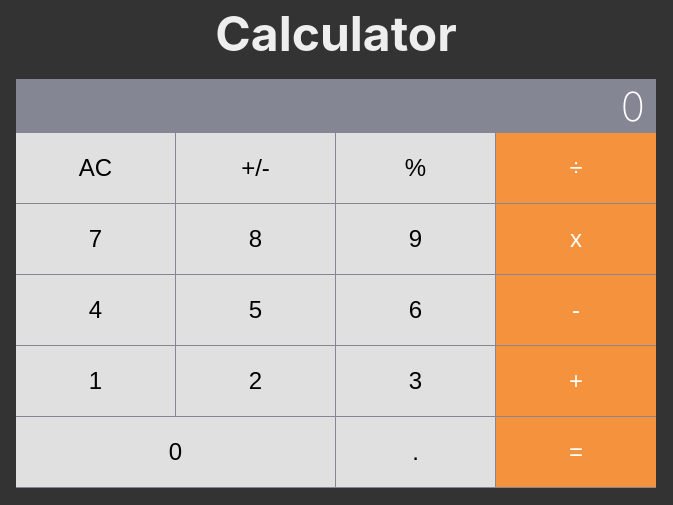
Test: tests calculation › test inverse
The width and height of the screenshot is (673, 505).
Click the button "1": (96, 381) top-left (16, 346), bottom-right (175, 416)
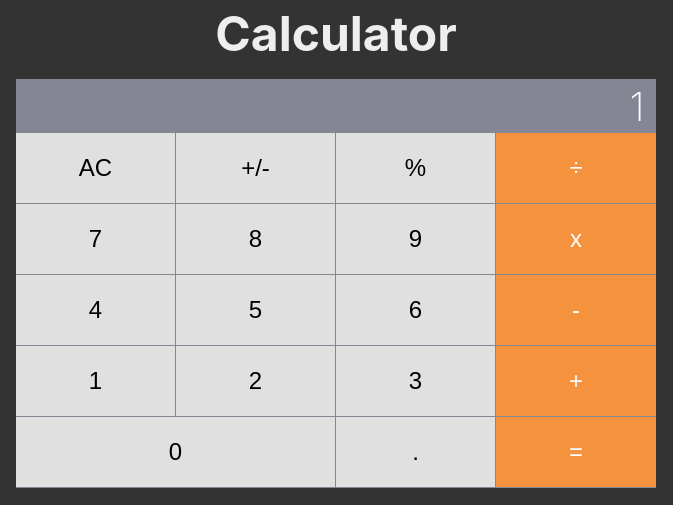
Click the button "0": (176, 452) top-left (16, 417), bottom-right (335, 487)
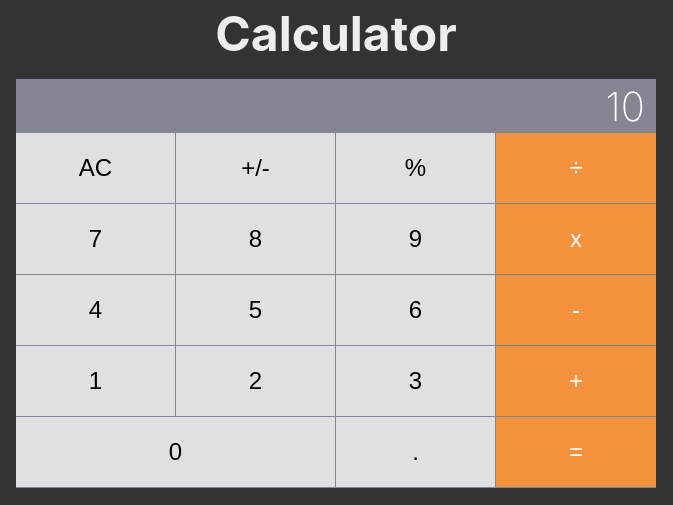
Click the button "8": (256, 239) top-left (176, 204), bottom-right (335, 274)
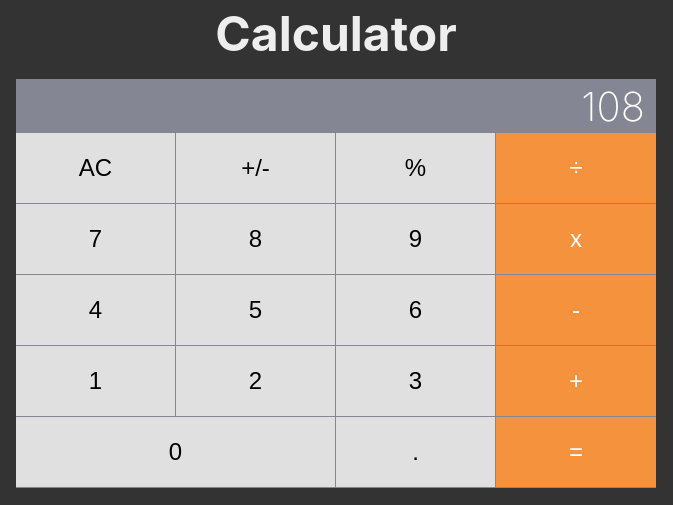
Click the button with id "btn-+/-": (256, 168) top-left (176, 133), bottom-right (335, 203)
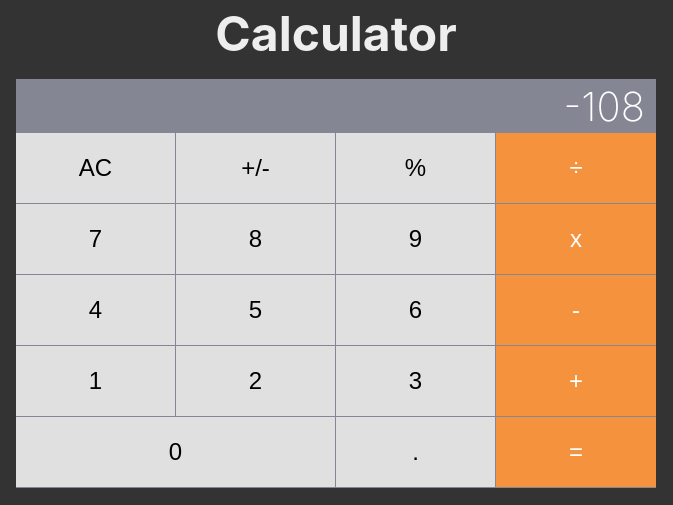
Result: the text with id "display" reads "-108" at top-left (563, 82), bottom-right (645, 131)
